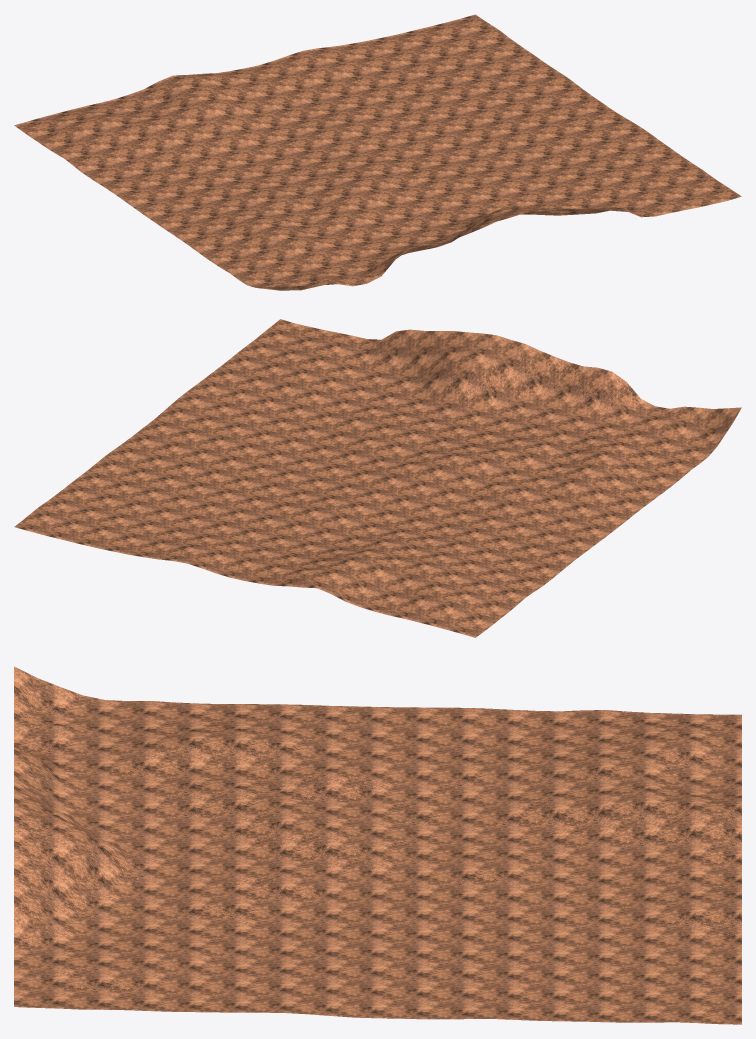
Rendered from terrain_07_03.dae.
The picture shows the model from 3 angles, top to bottom: view 1: azimuth 30°, elevation 25°; view 2: azimuth 150°, elevation 25°; view 3: azimuth 270°, elevation 25°; orthographic projection. The views are drawn at different scales.
Visible parts, largest first — view 1: terrain_07_03-node; view 2: terrain_07_03-node; view 3: terrain_07_03-node.
Part boxes in pixels (<box>): terrain_07_03-node: <box>14,14,741,290</box>; terrain_07_03-node: <box>14,319,741,637</box>; terrain_07_03-node: <box>14,666,741,1024</box>.
Size of the model in its own units: 128 by 128 by 13.37.
1 material, 1 textured.
